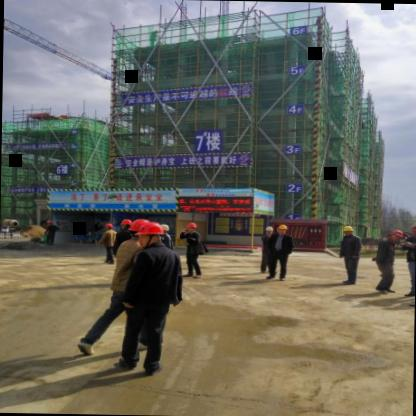helmet: (136, 222, 163, 246), (128, 219, 148, 242), (388, 228, 406, 242), (338, 222, 356, 236), (183, 220, 200, 234), (118, 217, 132, 231), (274, 224, 290, 236), (102, 221, 116, 233), (262, 225, 274, 236), (408, 220, 416, 236)
